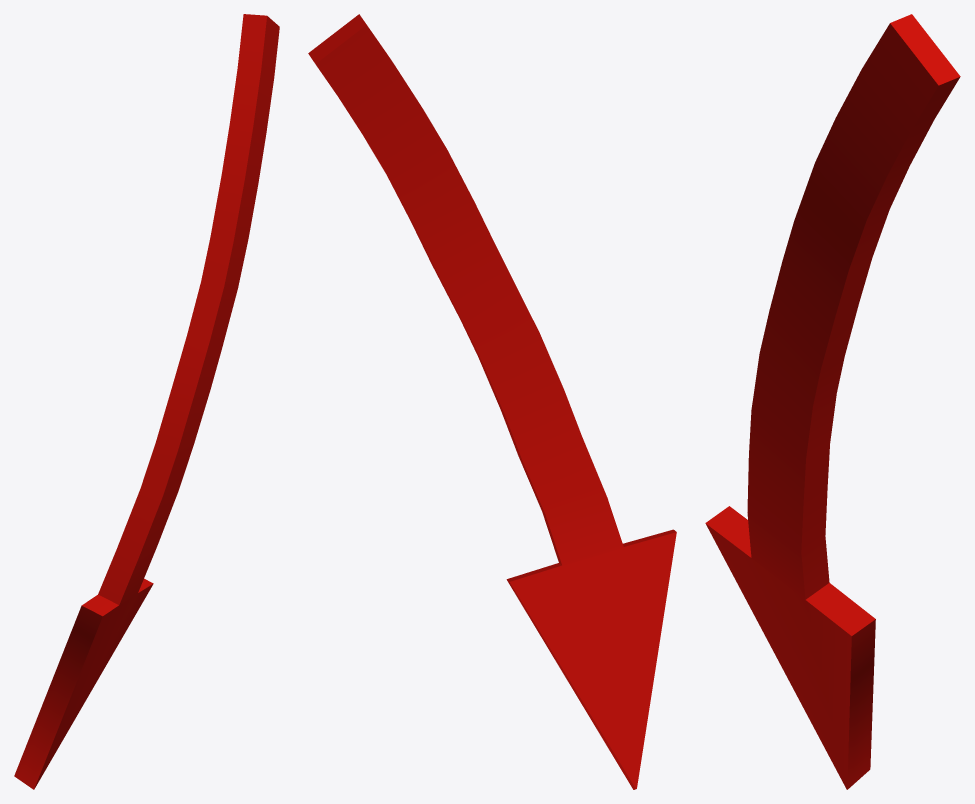
Rendered from Arrow09.fbx.
The picture shows the model from 3 angles, left to right: view 1: azimuth 30°, elevation 25°; view 2: azimuth 150°, elevation 25°; view 3: azimuth 270°, elevation 25°; orthographic projection. The views are drawn at different scales.
Parts seen in each view (by area): view 1: Cube.108; view 2: Cube.108; view 3: Cube.108.
Boxes of the visible parts, x1,y1,x2,y2 form: Cube.108: [14, 14, 279, 789]; Cube.108: [308, 14, 676, 789]; Cube.108: [705, 14, 960, 789].
Size of the model in its own units: 1.84 by 4.23 by 1.05.
